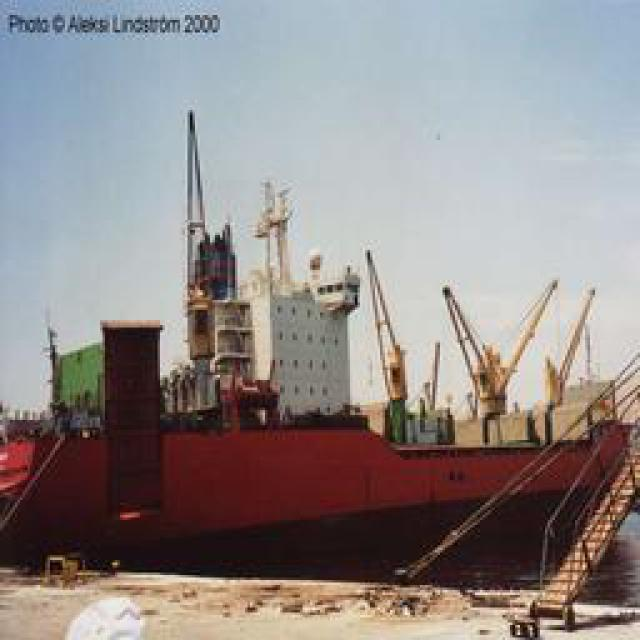Ship: (10, 212, 625, 585)
